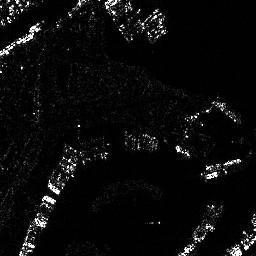ship: (212, 98, 241, 123), (203, 157, 242, 171)
